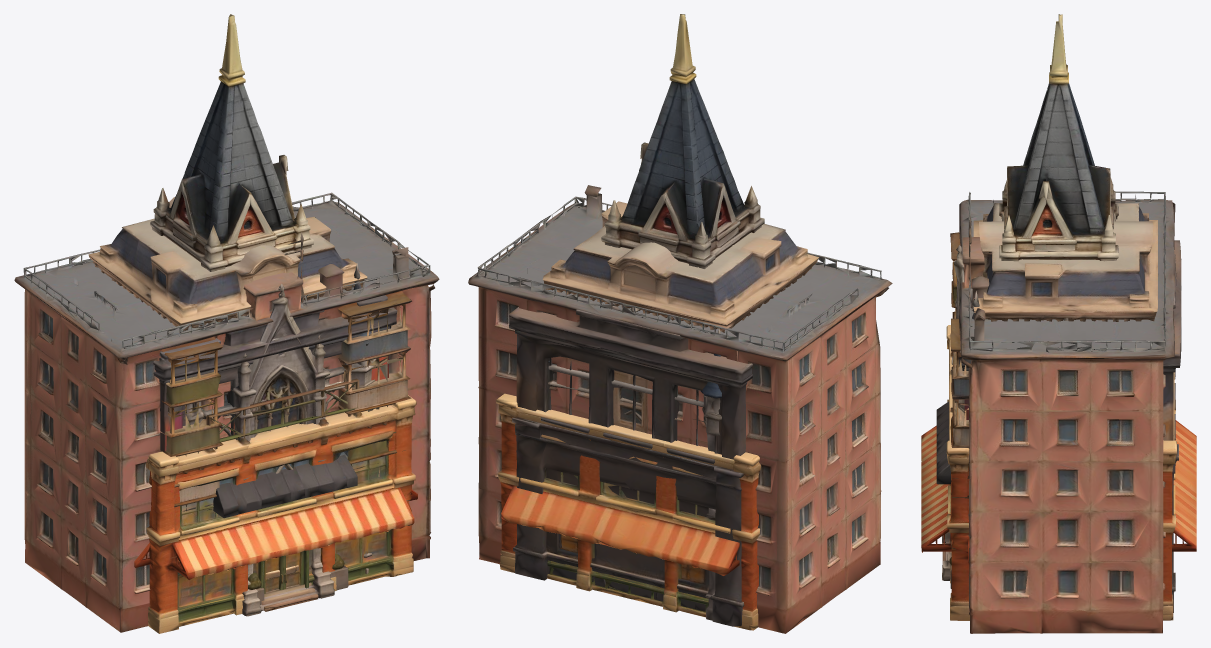
Rendered from pack_city.glb.
3 views of the same model, side by side, from view 1: azimuth 30°, elevation 25°; view 2: azimuth 150°, elevation 25°; view 3: azimuth 270°, elevation 25° (orthographic).
Visible parts, largest first — view 1: panel5, department_store, clock_tower, kroh_hq, shop_ulitsa, library; view 2: panel5, shop_ulitsa, department_store, clock_tower, kroh_hq, library; view 3: panel5, clock_tower, kroh_hq, department_store, shop_ulitsa, library.
Boxes of the visible parts, box(x1,y1,x2,y2) form: panel5: box(14, 192, 439, 632); department_store: box(134, 378, 417, 633); clock_tower: box(150, 14, 313, 271); kroh_hq: box(88, 197, 367, 330); shop_ulitsa: box(153, 295, 397, 604); library: box(139, 263, 376, 616); panel5: box(468, 185, 892, 633); shop_ulitsa: box(509, 307, 752, 626); department_store: box(496, 393, 760, 630); clock_tower: box(601, 14, 764, 268); kroh_hq: box(542, 201, 818, 332); library: box(548, 305, 721, 620); panel5: box(942, 191, 1175, 633); clock_tower: box(999, 14, 1118, 261); kroh_hq: box(973, 202, 1157, 321); department_store: box(921, 325, 1196, 620); shop_ulitsa: box(936, 240, 1181, 612); library: box(942, 233, 1158, 580).
Size of the model in its own units: 16.08 by 26 by 11.91.
Materials: 10 (10 with a texture image).
